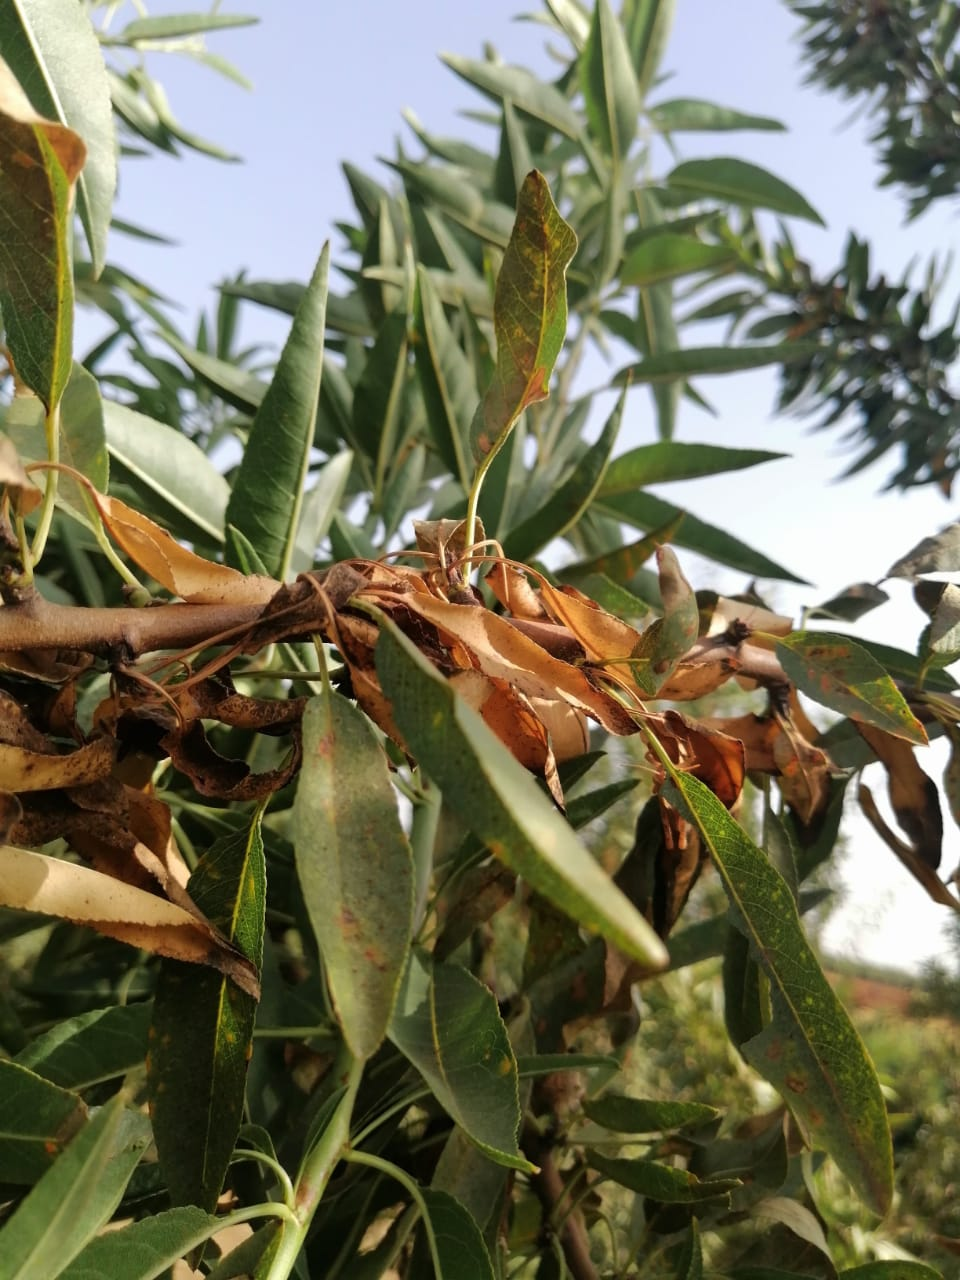scolytes: (1, 521, 832, 814)
